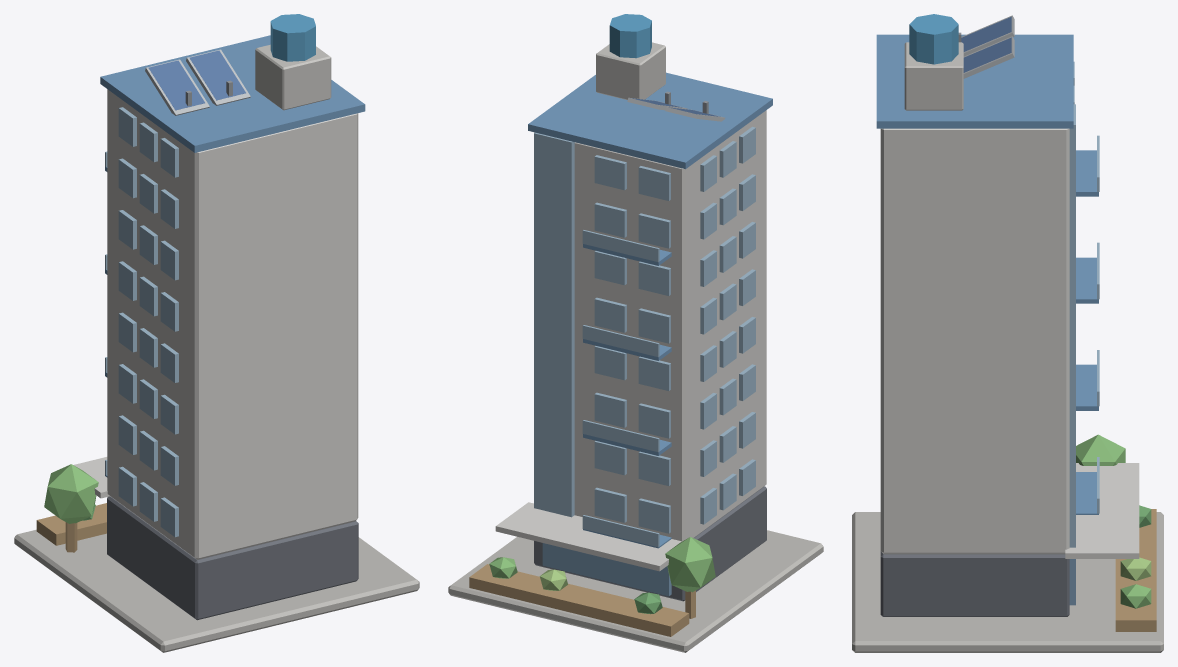
File: residencial__predio_alto.glb
3 views of the same model, side by side, from view 1: azimuth 30°, elevation 25°; view 2: azimuth 150°, elevation 25°; view 3: azimuth 270°, elevation 25° (orthographic). The views are drawn at different scales.
Visible parts, largest first — view 1: residencial__predio_alto; view 2: residencial__predio_alto; view 3: residencial__predio_alto.
Boxes of the visible parts, x1,y1,x2,y2 form: residencial__predio_alto: [14, 14, 419, 652]; residencial__predio_alto: [448, 14, 823, 652]; residencial__predio_alto: [852, 14, 1163, 652].
Size of the model in its own units: 1.9 by 3.93 by 1.9.
